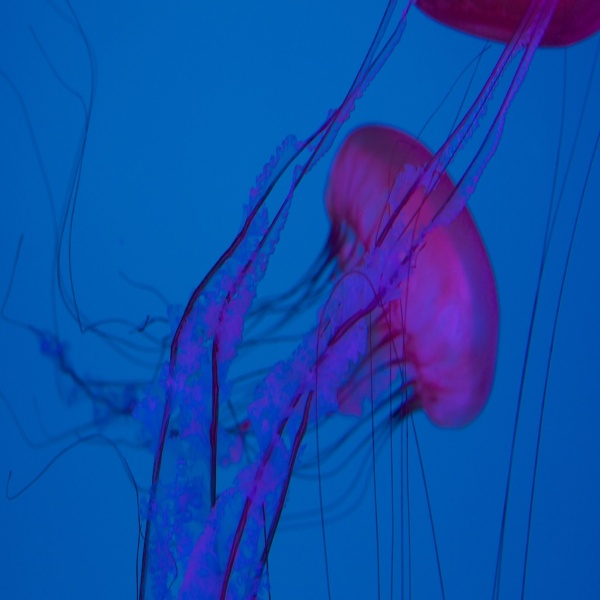Jellyfish: (0, 0, 503, 599)
